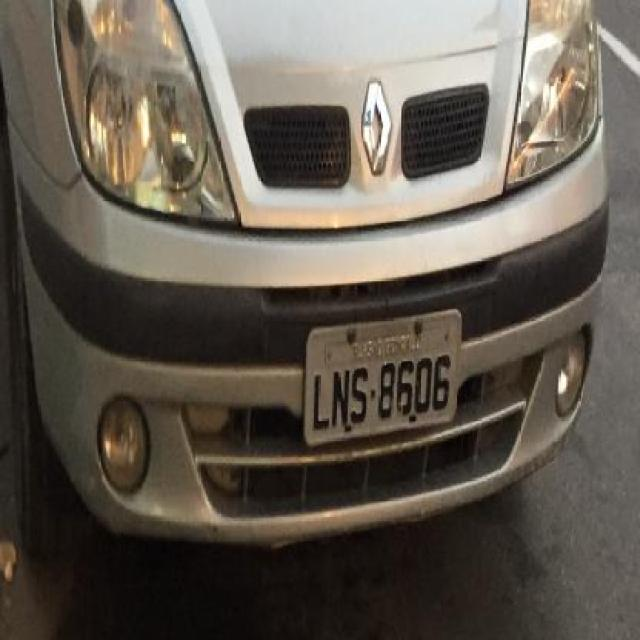old_plate: (295, 304, 467, 454)
